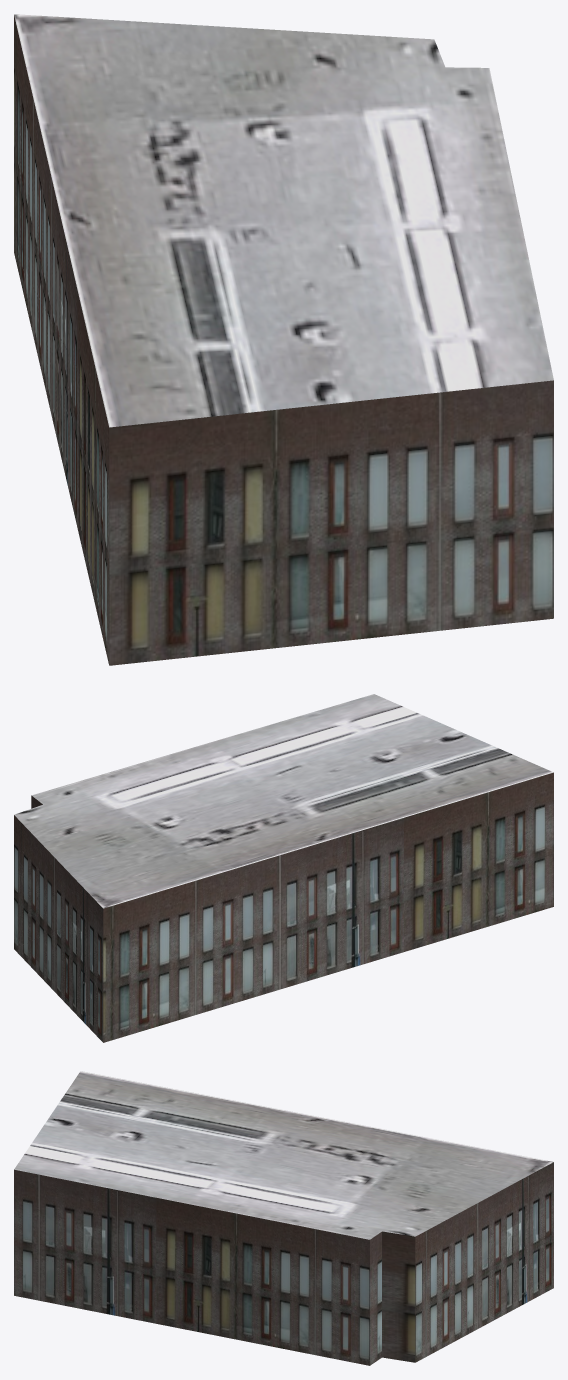
Rendered from EduTex__3.fbx.
The picture shows the model from 3 angles, top to bottom: view 1: azimuth 30°, elevation 25°; view 2: azimuth 150°, elevation 25°; view 3: azimuth 270°, elevation 25°; orthographic projection. The views are drawn at different scales.
Visible parts, largest first — view 1: CityEngineMaterial_4_m, CityEngineMaterial_5_m; view 2: CityEngineMaterial_5_m, CityEngineMaterial_4_m; view 3: CityEngineMaterial_5_m, CityEngineMaterial_4_m.
Part boxes in pixels (x1,y1,x2,y2): CityEngineMaterial_4_m: [14, 14, 553, 427]; CityEngineMaterial_5_m: [14, 15, 553, 665]; CityEngineMaterial_5_m: [14, 772, 553, 1042]; CityEngineMaterial_4_m: [14, 694, 553, 908]; CityEngineMaterial_5_m: [14, 1162, 553, 1365]; CityEngineMaterial_4_m: [14, 1071, 553, 1239].
Size of the model in its own units: 17.22 by 6 by 23.29.
Materials: 2 (2 with a texture image).
